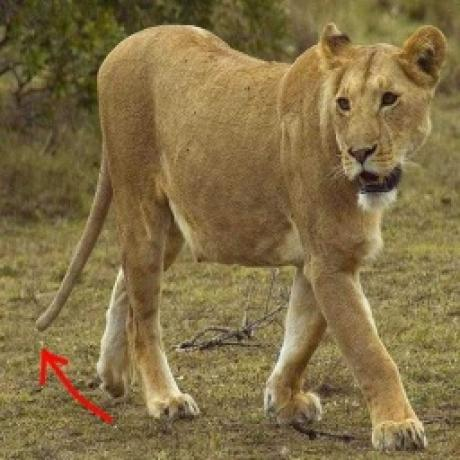Lion: (35, 21, 449, 452)
